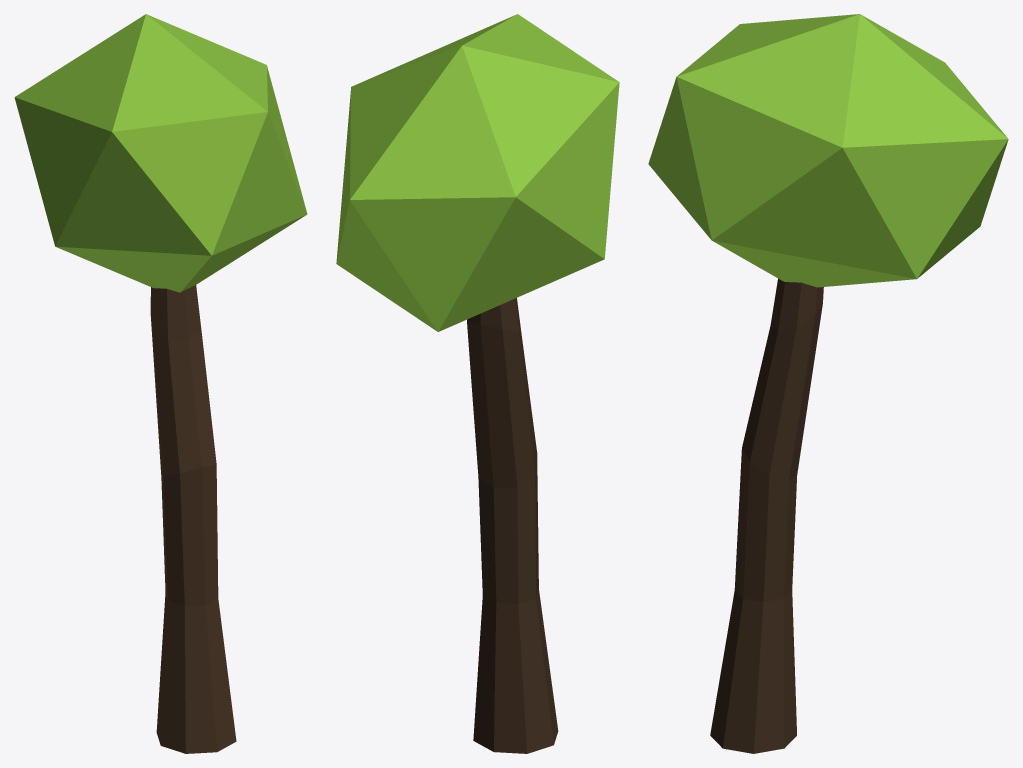
The model's file is Tree6.fbx.
3 renders of one model, left to right at view 1: azimuth 30°, elevation 25°; view 2: azimuth 150°, elevation 25°; view 3: azimuth 270°, elevation 25°, orthographic. The views are drawn at different scales.
Visible parts, largest first — view 1: Icosphere.006; view 2: Icosphere.006; view 3: Icosphere.006.
Boxes of the visible parts, left/top/right/bottom form: Icosphere.006: left=14, top=14, right=307, bottom=753; Icosphere.006: left=336, top=14, right=619, bottom=753; Icosphere.006: left=648, top=14, right=1008, bottom=753.
Size of the model in its own units: 95.26 by 278 by 126.
